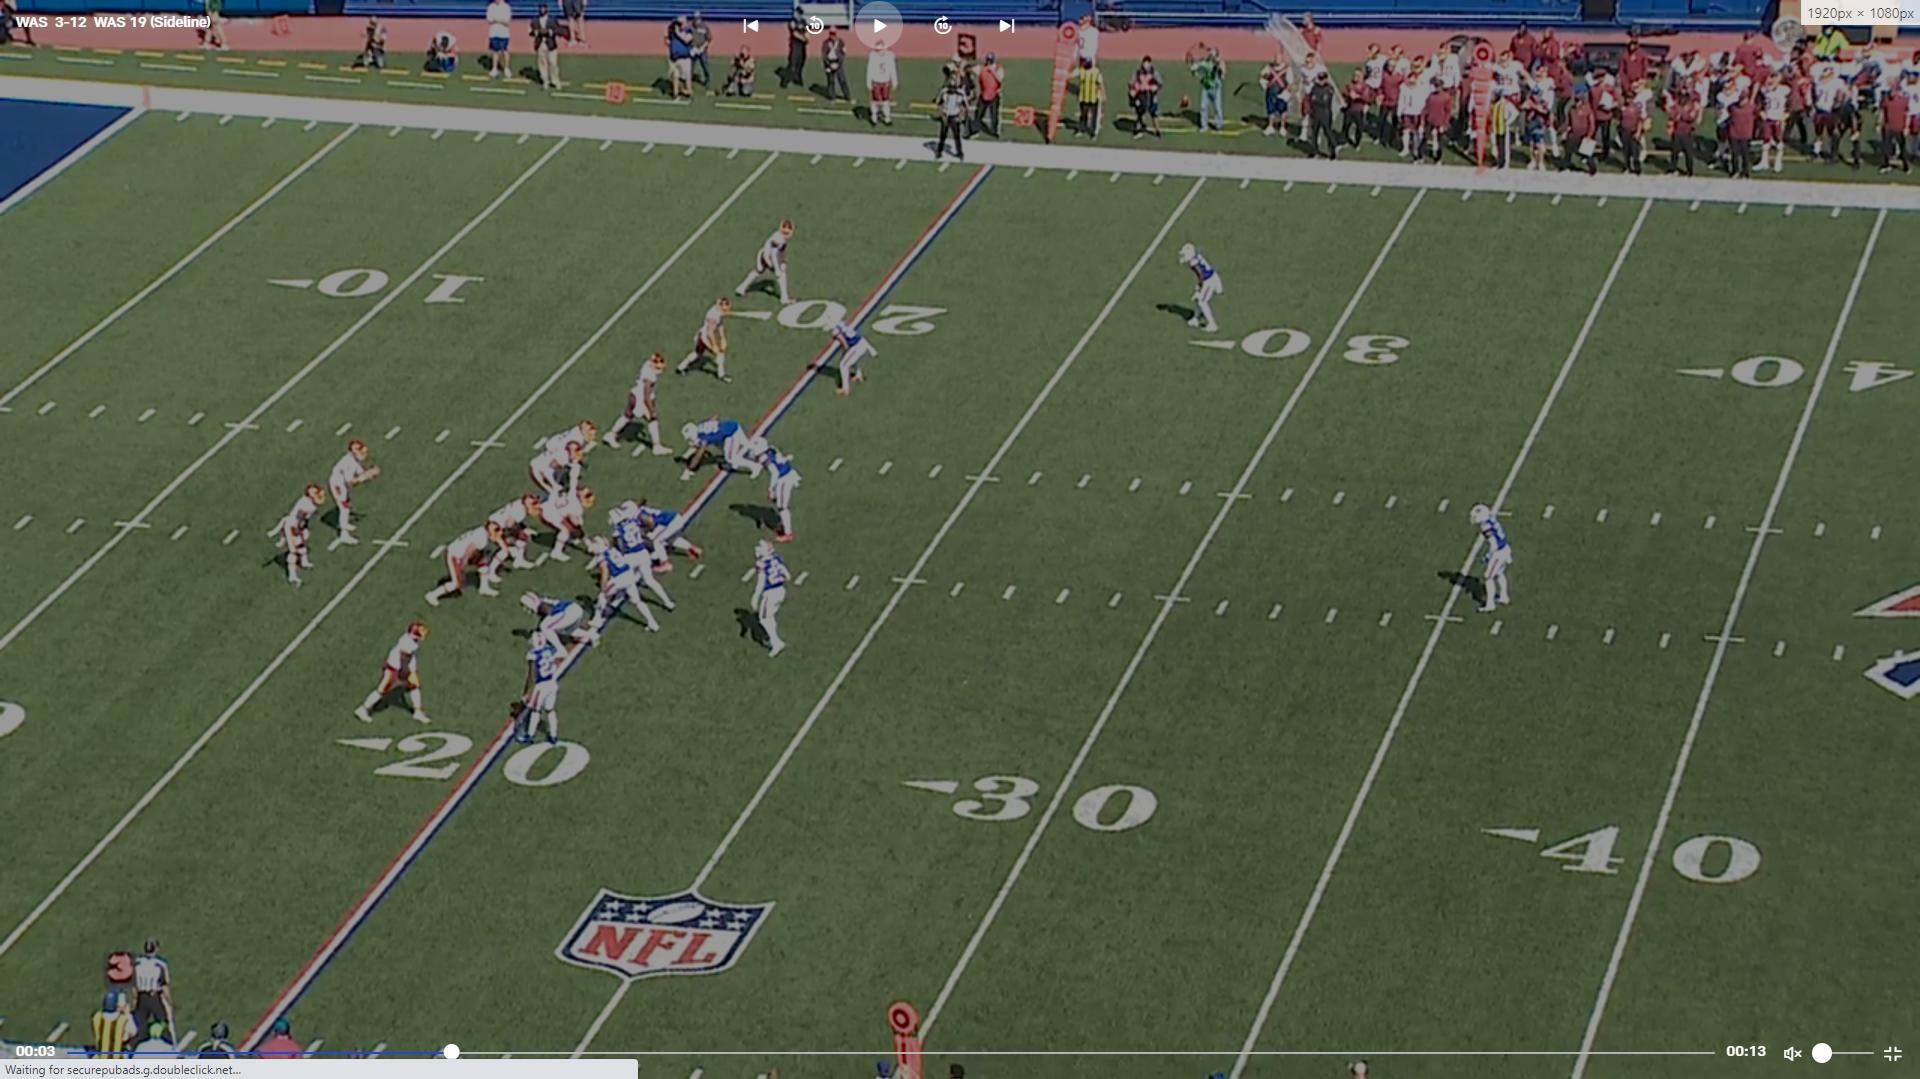player: (359, 616, 436, 729), (589, 530, 666, 641), (611, 499, 702, 576), (427, 524, 503, 612), (321, 433, 378, 547), (607, 348, 667, 455), (514, 630, 564, 753), (677, 293, 741, 387), (1468, 502, 1521, 613), (736, 217, 801, 305), (271, 477, 323, 587), (746, 538, 790, 661), (523, 589, 594, 663), (682, 414, 758, 482), (485, 493, 543, 582), (754, 439, 801, 547), (532, 487, 596, 565), (823, 310, 873, 399), (1176, 242, 1223, 334), (528, 438, 589, 498), (710, 437, 769, 491), (541, 416, 603, 455)
ref: (119, 933, 182, 1056), (932, 77, 972, 166)
